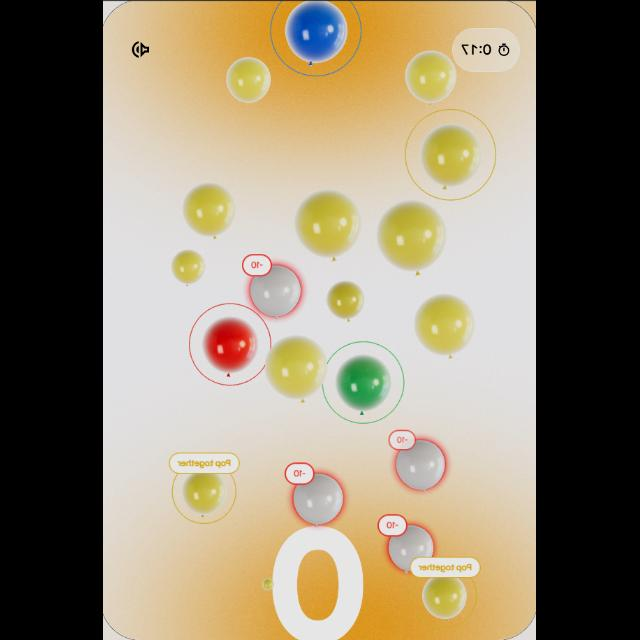hazard: (390, 428, 454, 496), (240, 253, 304, 321), (284, 462, 348, 528), (377, 513, 435, 567)
safe: (374, 204, 451, 278), (268, 330, 330, 406), (296, 191, 362, 261), (412, 297, 478, 358), (399, 50, 461, 109), (184, 178, 236, 242), (224, 54, 276, 108), (326, 276, 366, 324), (168, 245, 210, 289)
safe-pair: (168, 449, 242, 526), (412, 554, 480, 622)
sequence: (401, 108, 499, 204), (266, 0, 370, 80), (186, 304, 274, 390), (323, 339, 409, 426)
